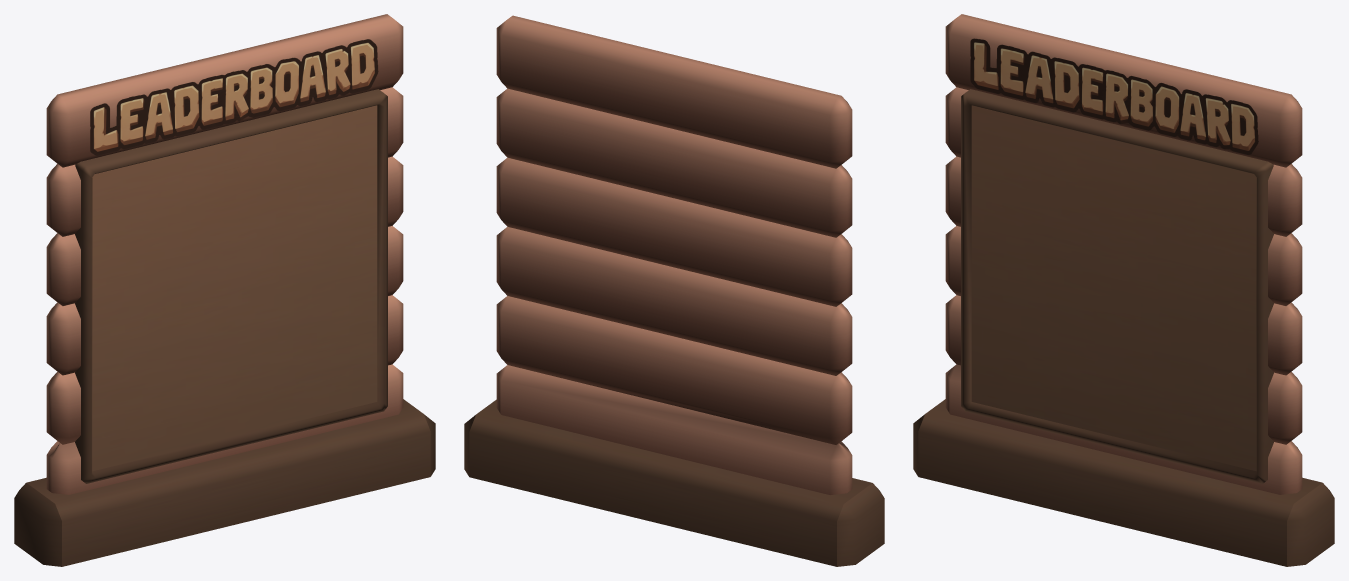
Rendered from Leaderboard.glb.
3 renders of one model, left to right at view 1: azimuth 30°, elevation 25°; view 2: azimuth 150°, elevation 25°; view 3: azimuth 330°, elevation 25°, orthographic.
Visible parts, largest first — view 1: Leaderboard; view 2: Leaderboard; view 3: Leaderboard.
Part boxes in pixels (box(x1,y1,x2,y2)): Leaderboard: box(14, 14, 435, 566); Leaderboard: box(464, 15, 884, 566); Leaderboard: box(913, 14, 1334, 566).
Size of what is drawn, in the model's own units: 5.08 by 5.57 by 0.9574.
2 materials, 2 textured.
